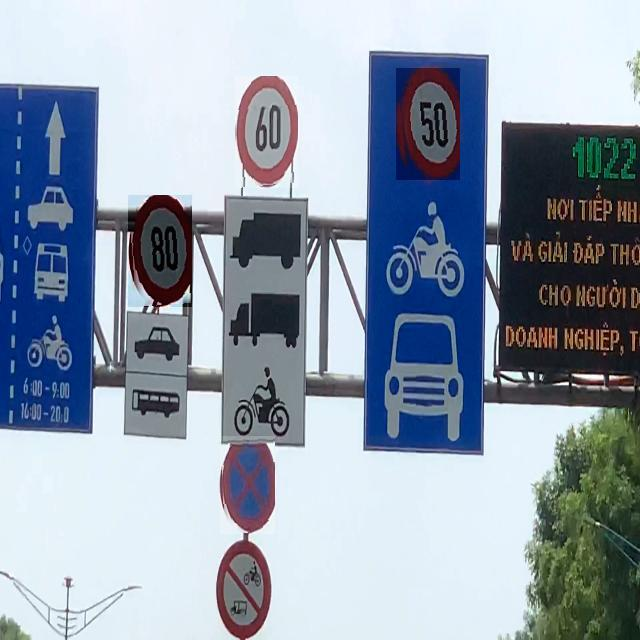P-127: (396, 68, 460, 180), (128, 195, 192, 307), (235, 76, 298, 188)
P-130: (220, 436, 275, 534)
